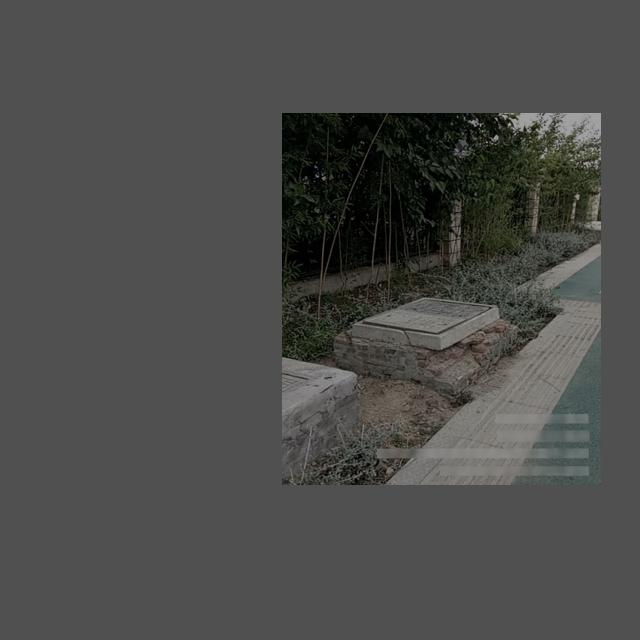good: (354, 296, 497, 336)
